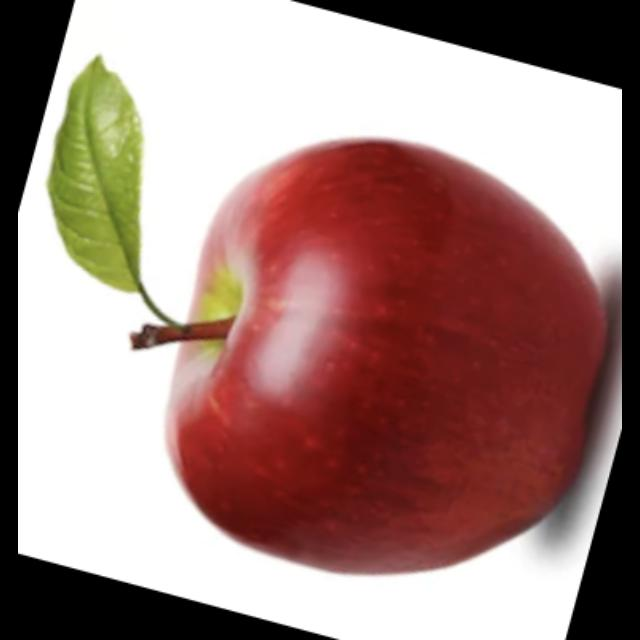Apel Segar: (158, 140, 616, 578)
